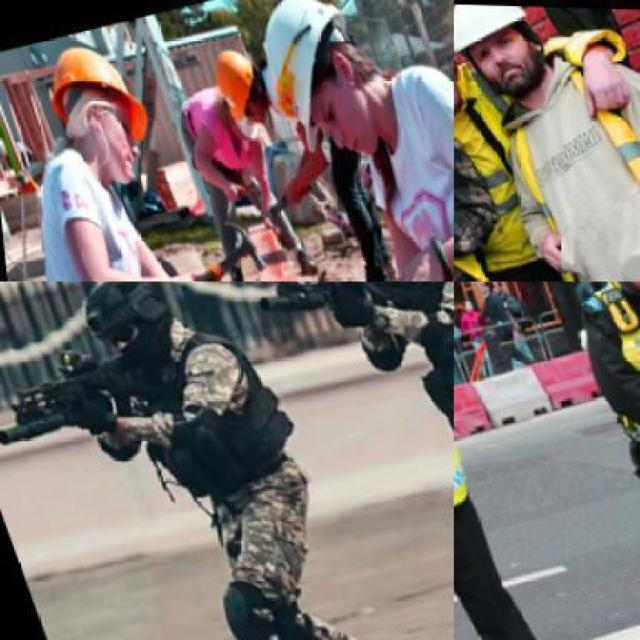Vest: (107, 322, 316, 522), (484, 43, 638, 280), (454, 54, 574, 280), (363, 282, 452, 426), (582, 282, 638, 463)
